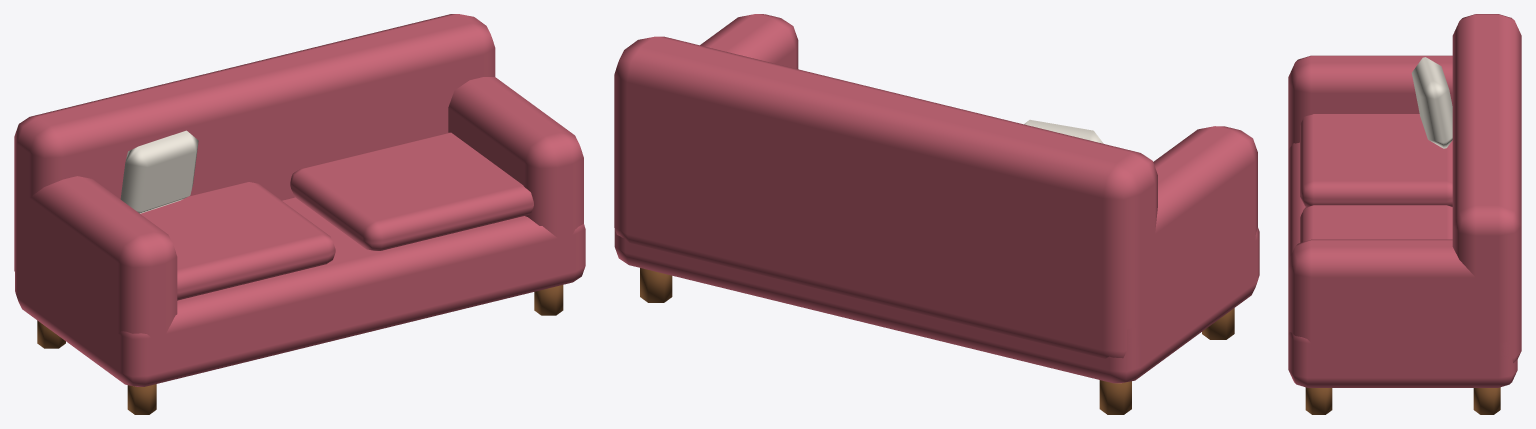
Rendered from sofa.glb.
The picture shows the model from 3 angles, left to right: view 1: azimuth 30°, elevation 25°; view 2: azimuth 150°, elevation 25°; view 3: azimuth 270°, elevation 25°; orthographic projection. The views are drawn at different scales.
Visible parts, largest first — view 1: sofa; view 2: sofa; view 3: sofa.
Part boxes in pixels (x1=…): sofa: x1=14, y1=14, x2=585, y2=414; sofa: x1=614, y1=14, x2=1259, y2=414; sofa: x1=1288, y1=14, x2=1521, y2=414.
Bounding box in the file's own units: 1.3 × 0.6 × 0.61.
